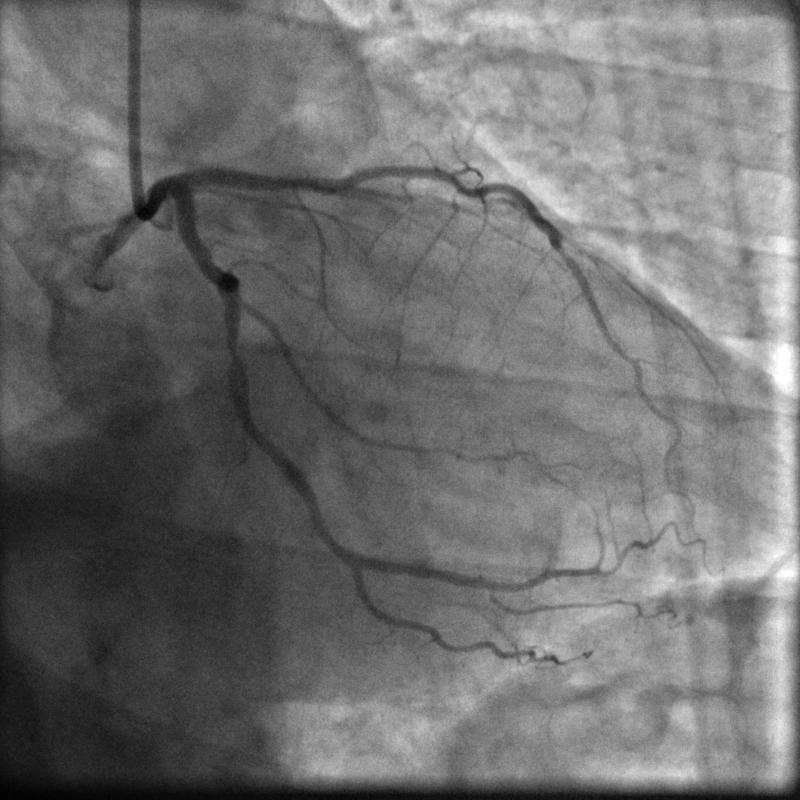Stenosis: (224, 336, 243, 364)
